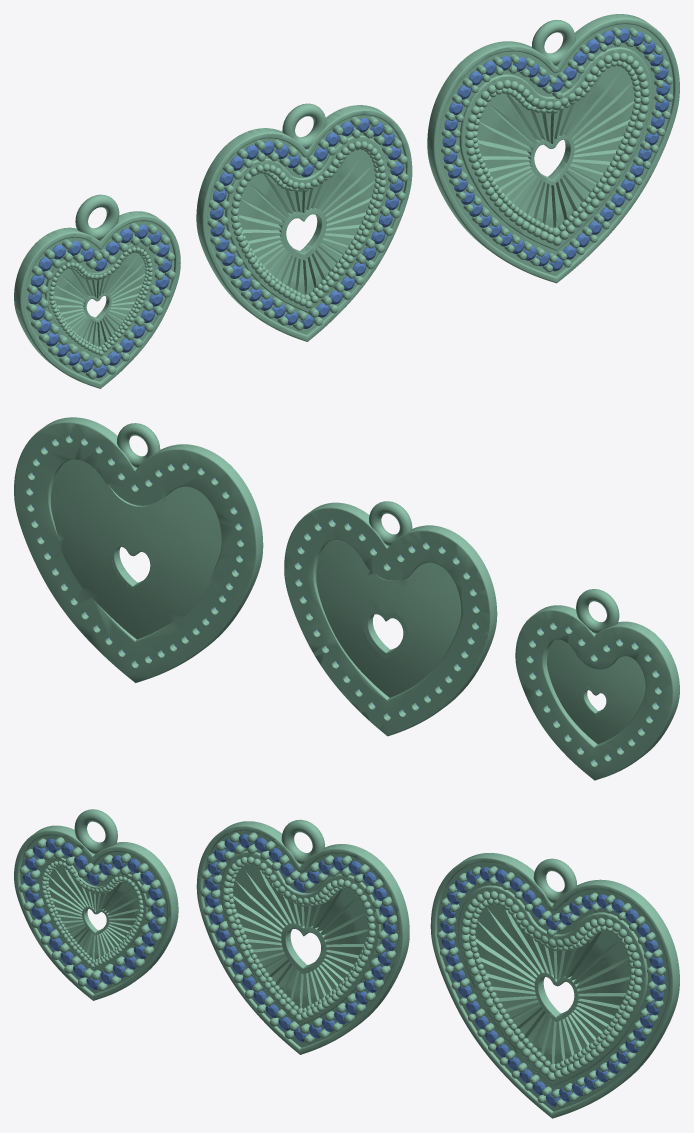
The picture shows the model from 3 angles, top to bottom: view 1: azimuth 30°, elevation 25°; view 2: azimuth 150°, elevation 25°; view 3: azimuth 330°, elevation 25°; orthographic projection.
Visible parts, largest first — view 1: object 3, object 2, object 1; view 2: object 3, object 2, object 1; view 3: object 3, object 2, object 1.
Boxes of the visible parts, x1,y1,x2,y2 form: object 3: (427, 14, 679, 283); object 2: (196, 103, 412, 341); object 1: (14, 194, 180, 388); object 3: (14, 417, 263, 682); object 2: (284, 501, 497, 736); object 1: (515, 589, 679, 780); object 3: (430, 853, 679, 1118); object 2: (196, 819, 409, 1054); object 1: (14, 809, 178, 1000).
Bounding box in the file's own units: 3.74 × 1.4 × 0.1733.
